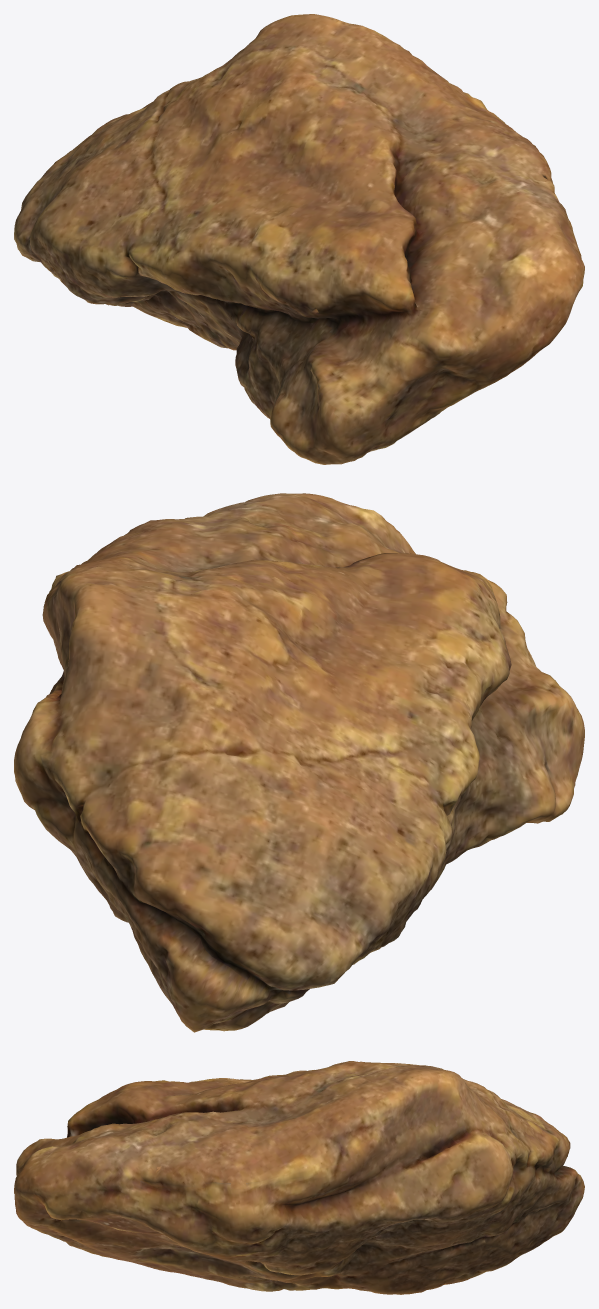
The model's file is inverno-rocha-granito-a.glb.
3 renders of one model, top to bottom at view 1: azimuth 30°, elevation 25°; view 2: azimuth 150°, elevation 25°; view 3: azimuth 270°, elevation 25°, orthographic. The views are drawn at different scales.
Parts seen in each view (by area): view 1: inverno-rocha-granito-a; view 2: inverno-rocha-granito-a; view 3: inverno-rocha-granito-a.
Boxes of the visible parts, left/top/right/bottom form: inverno-rocha-granito-a: left=14, top=14, right=584, bottom=464; inverno-rocha-granito-a: left=14, top=493, right=584, bottom=1032; inverno-rocha-granito-a: left=14, top=1061, right=584, bottom=1294.
Bounding box in the file's own units: 5.09 × 3.8 × 7.37.
Materials: 1 (1 with a texture image).
